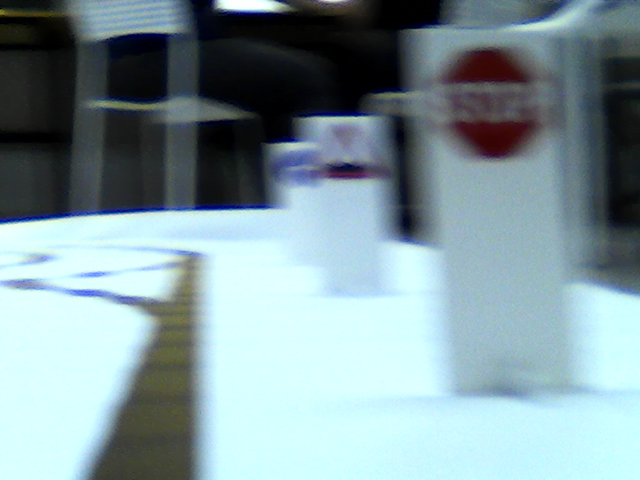Stop: (438, 43, 549, 158)
